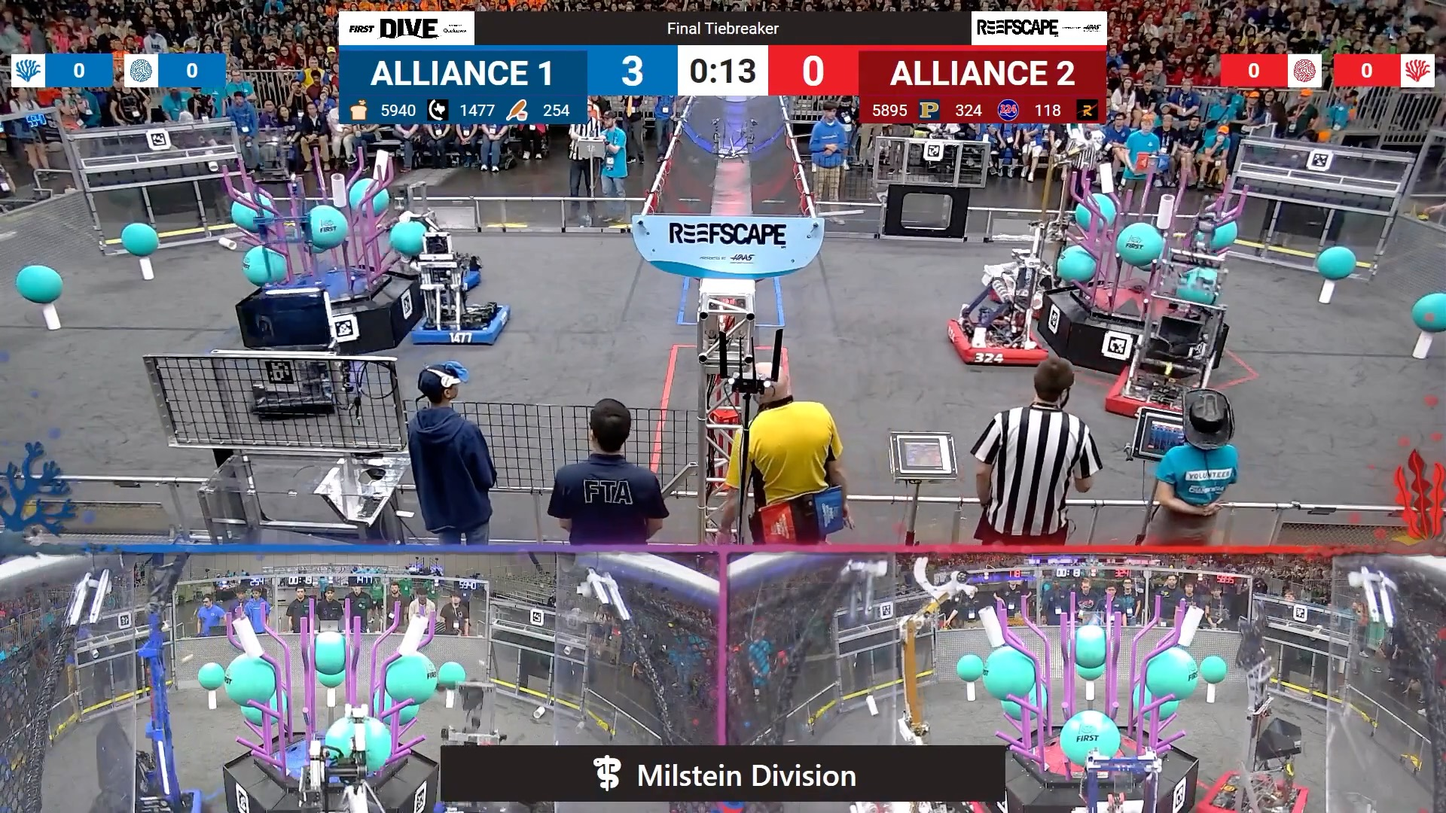bumpers: (941, 318, 1049, 377), (1096, 365, 1202, 417), (1197, 770, 1320, 813), (409, 304, 517, 352), (388, 265, 483, 299)
